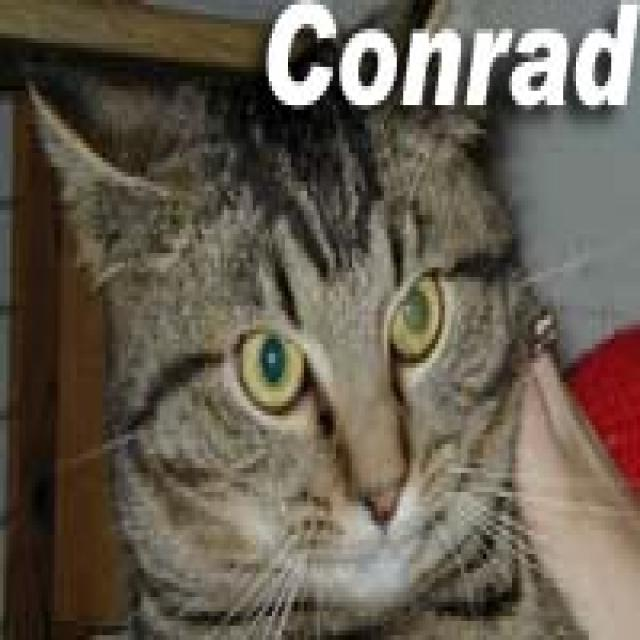Cats: (22, 43, 586, 635)
